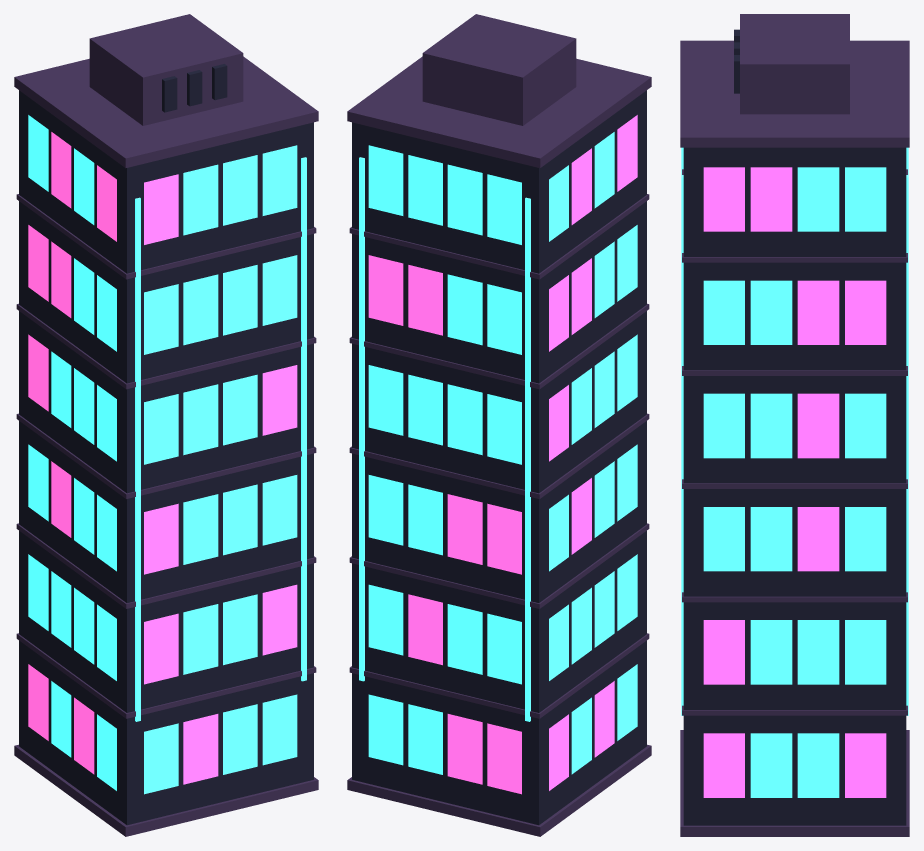
The model's file is neon-building-02.glb.
3 views of the same model, side by side, from view 1: azimuth 30°, elevation 25°; view 2: azimuth 150°, elevation 25°; view 3: azimuth 270°, elevation 25° (orthographic). The views are drawn at different scales.
Visible parts, largest first — view 1: neon_building_02; view 2: neon_building_02; view 3: neon_building_02.
Boxes of the visible parts, left/top/right/bottom form: neon_building_02: left=14, top=14, right=318, bottom=836; neon_building_02: left=347, top=14, right=651, bottom=836; neon_building_02: left=680, top=14, right=909, bottom=836.
Size of the model in its own units: 5 by 18 by 5.
